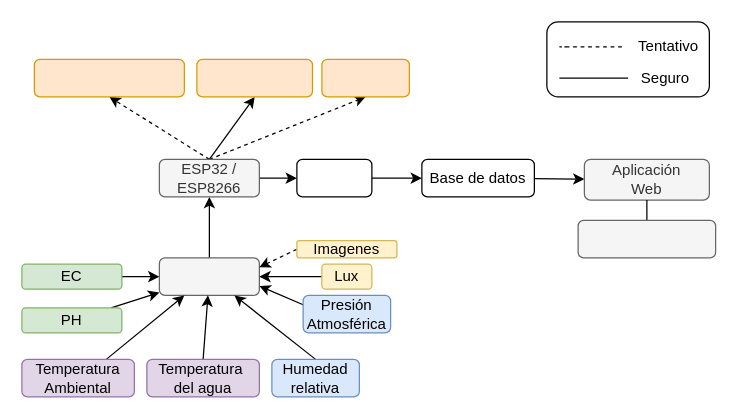
This 738x419 diagram has some shape labels left out. Each missing label, with the centre of its shape:
"Análisis de los datos" belongs at pixel 646 238.
"Bombas para Circular Agua" belongs at pixel 254 77.
"Bombas peristálticas (para regular ph y EC)" belongs at pixel 108 77.
"Broker MQTT" belongs at pixel 334 177.
"Luz de crecimiento" belongs at pixel 365 77.
"Sensores de variables" belongs at pixel 208 276.
